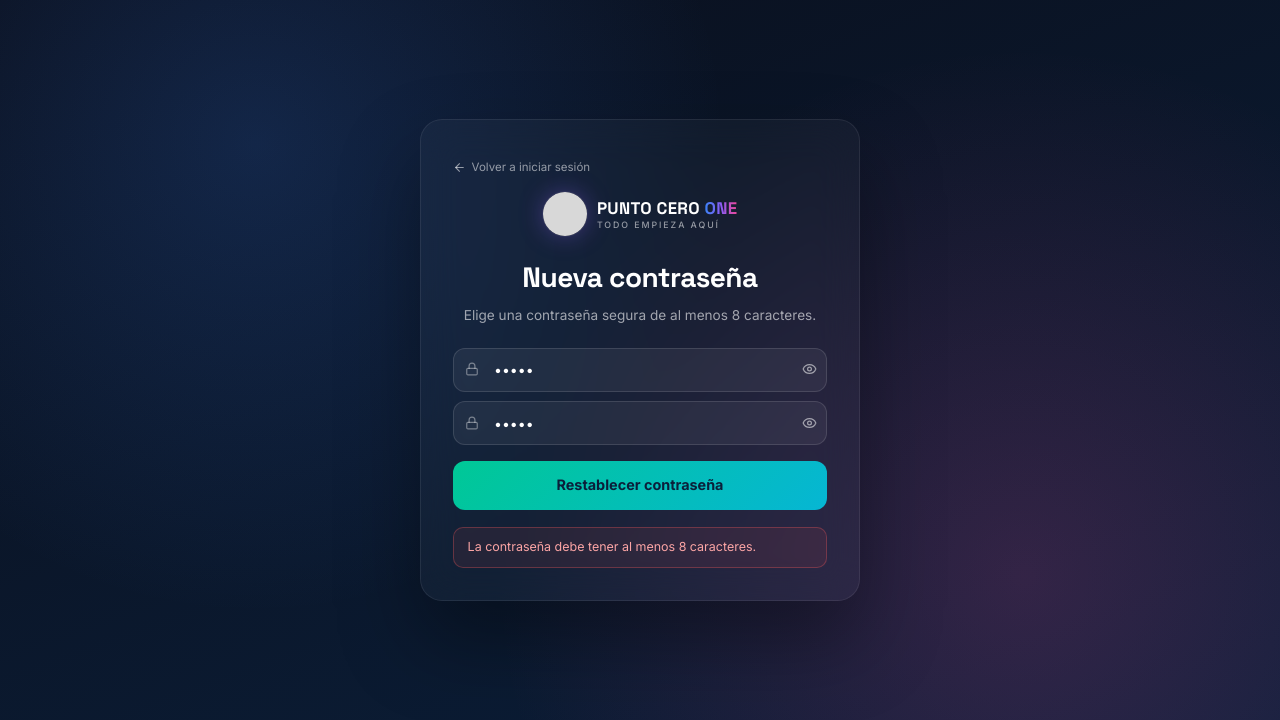
Recuperación · punto de entrada en /login › Recuperación · cambio de contraseña en /reset-password › exige mínimo 8 caracteres y confirmación coincidente
The width and height of the screenshot is (1280, 720).
Earlier steps of the test are not shown.
Expected: the text with test id "reset-error" shows "al menos 8 caracteres", [468,539,756,554]
Type "nuevaclave1" into the password field with test id "reset-input-password". click: (640, 369)
box: [453,347,827,391]
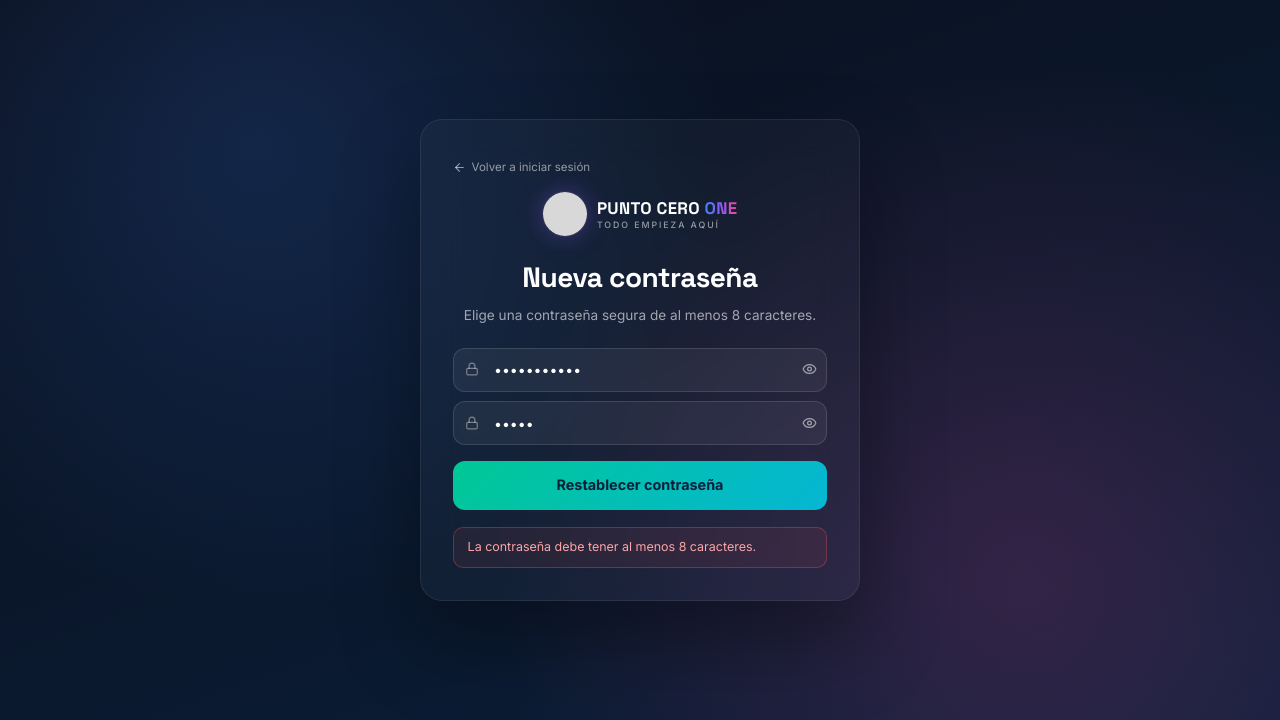
Type "otraclave99" into the password field with test id "reset-input-confirm". click: (640, 423)
box: [453,401,827,445]
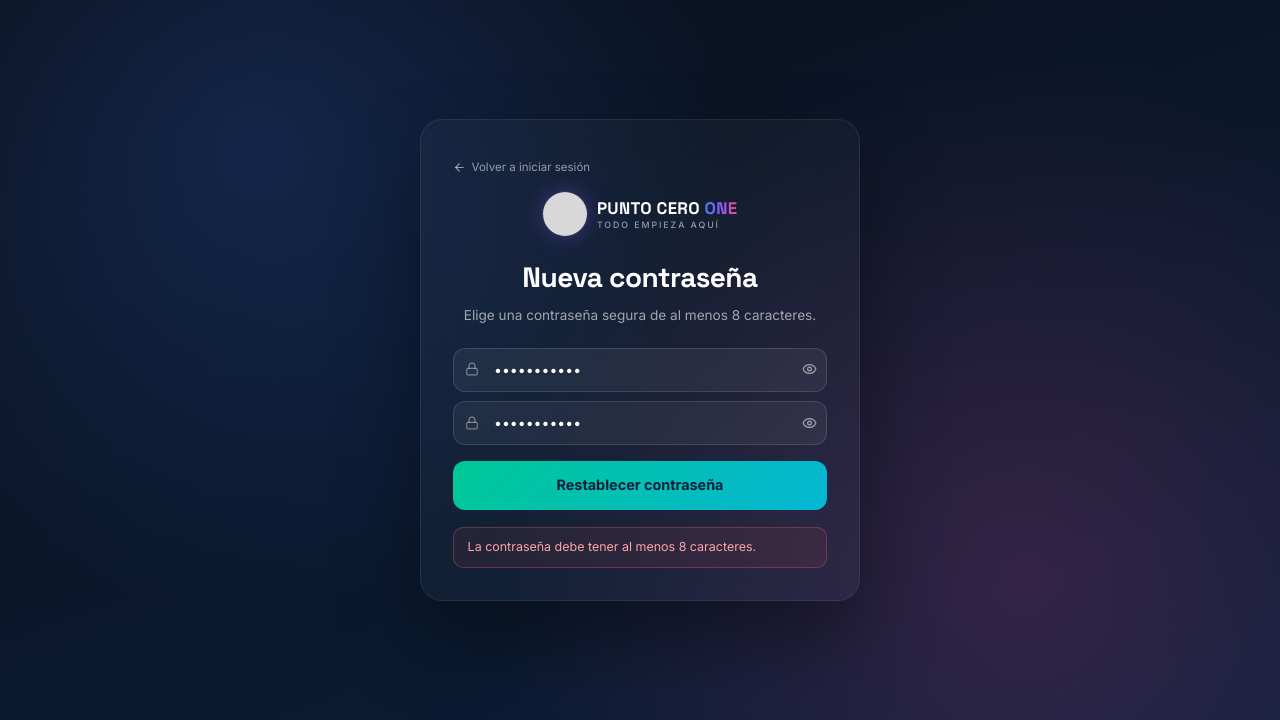
Click the button with test id "reset-submit". click: (640, 485)
box: [453,460,827,509]
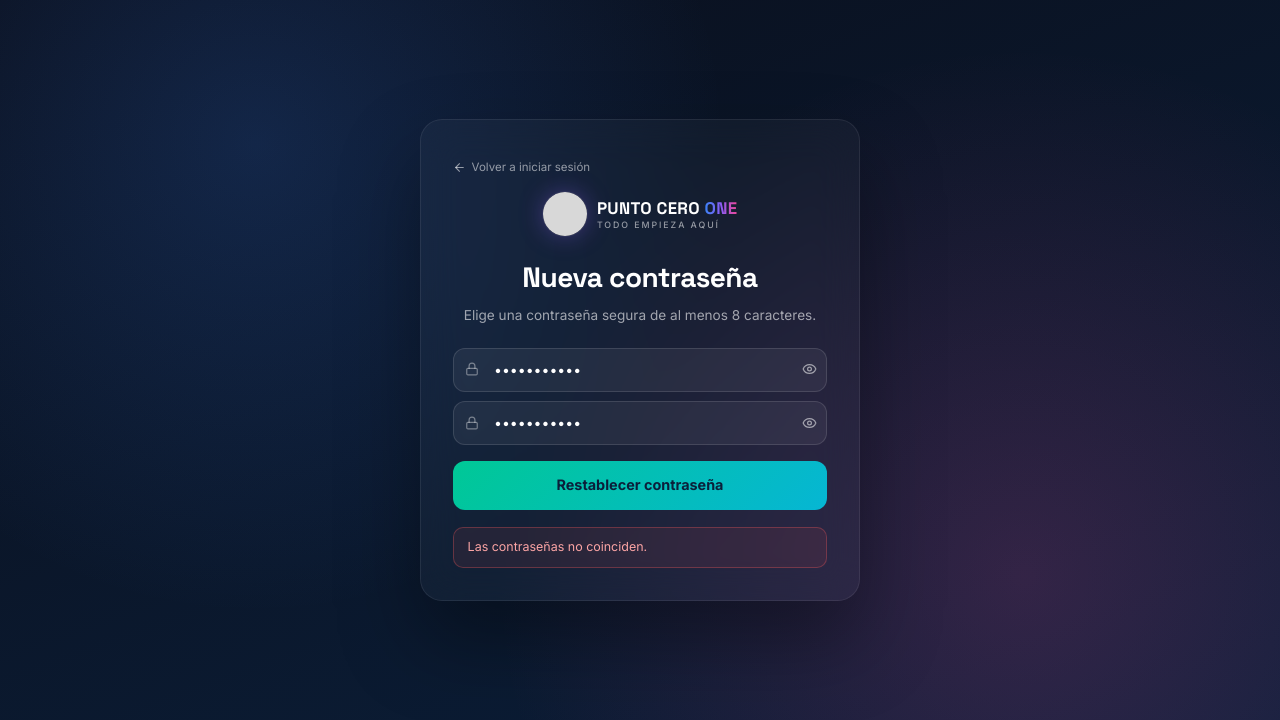
Expected: the text with test id "reset-error" shows "no coinciden", [468,539,647,554]
